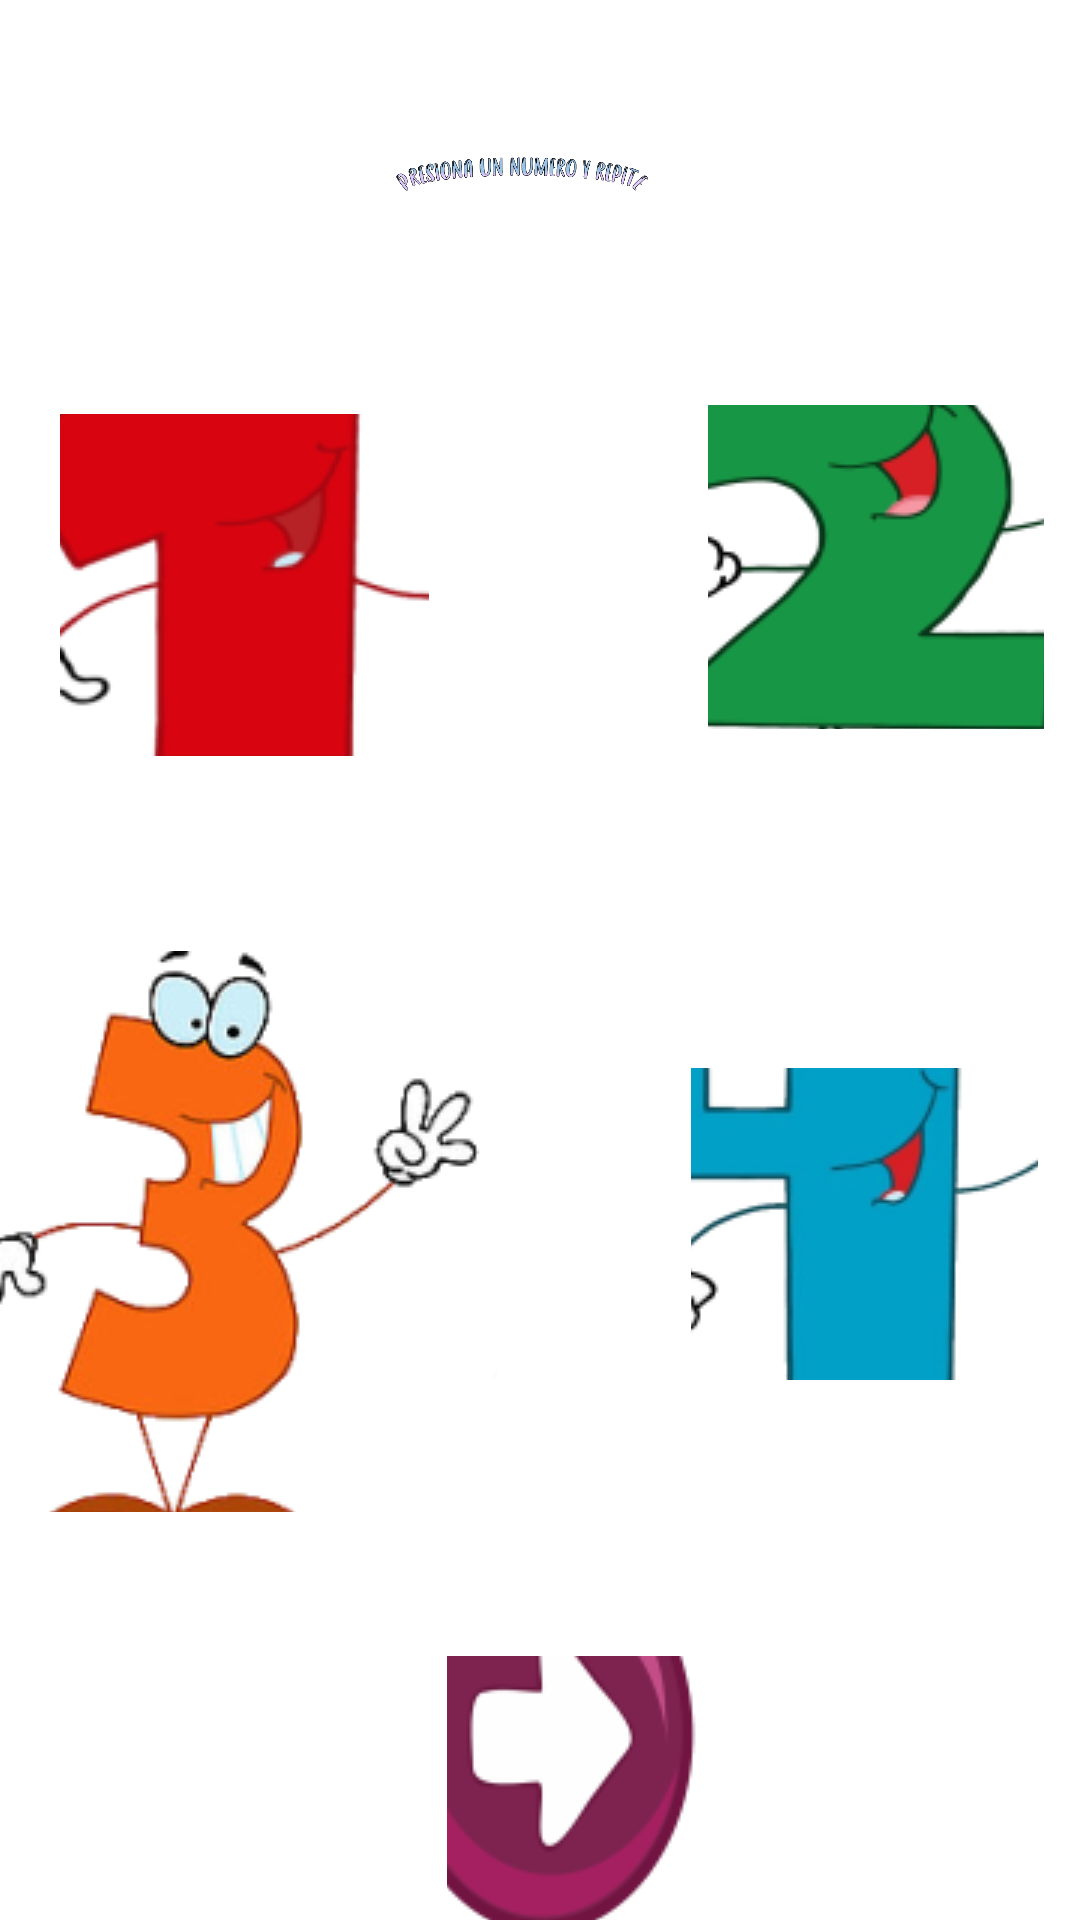

Icon bounding boxes for this 1080 × 1920 phone screenshot, format [left=x1, top=y1, right=x2, bottom=y2]:
cuat: [left=691, top=1068, right=1038, bottom=1380]
doss: [left=708, top=405, right=1044, bottom=729]
